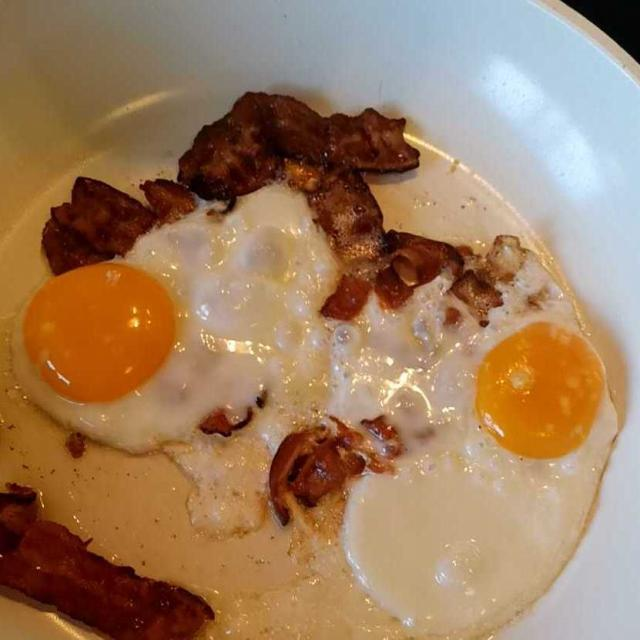bacon: (0, 96, 492, 632)
egg: (7, 181, 580, 632)
